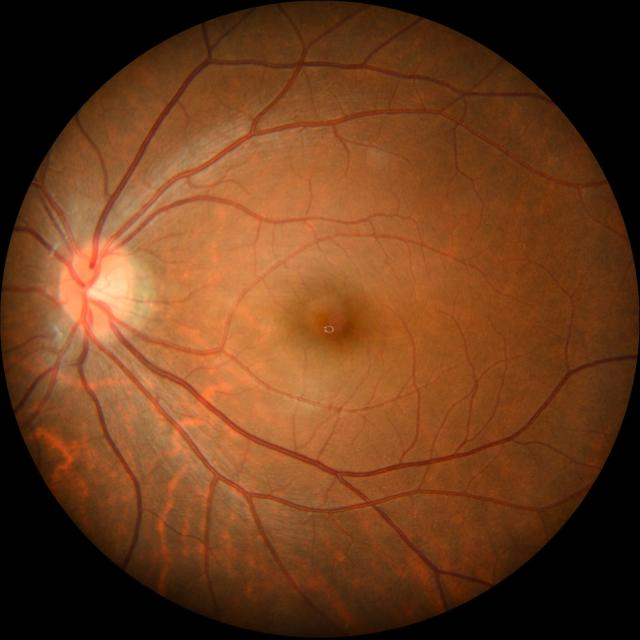OC: (86, 266, 120, 306)
OD: (59, 240, 138, 335)
